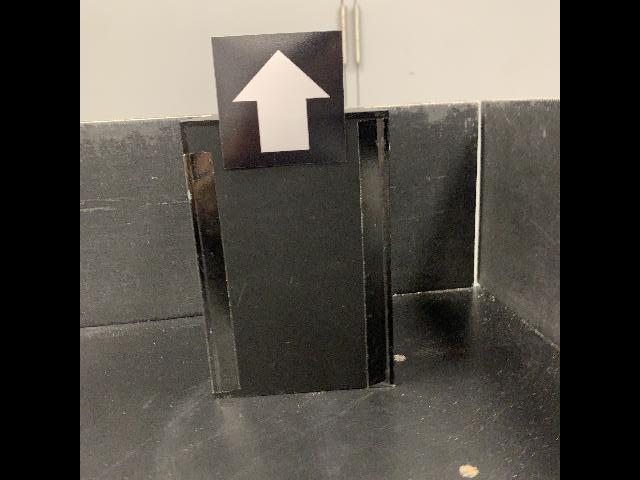up: (208, 29, 352, 172)
